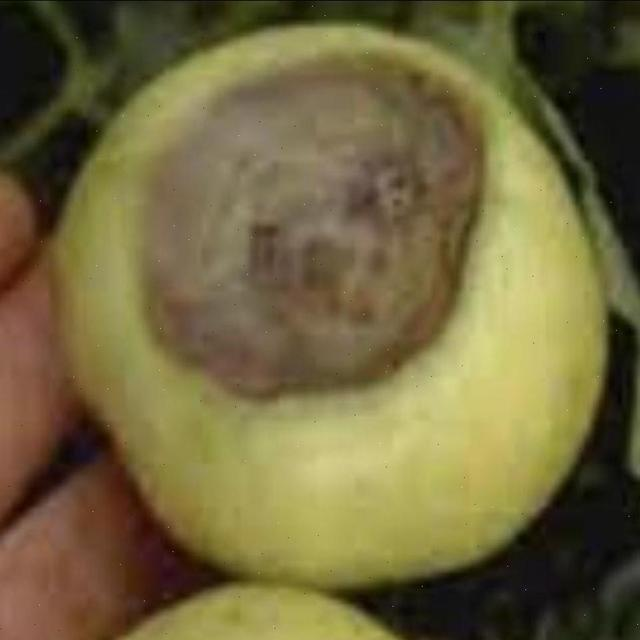Blossom End Rot Fruit: (84, 29, 325, 270)
